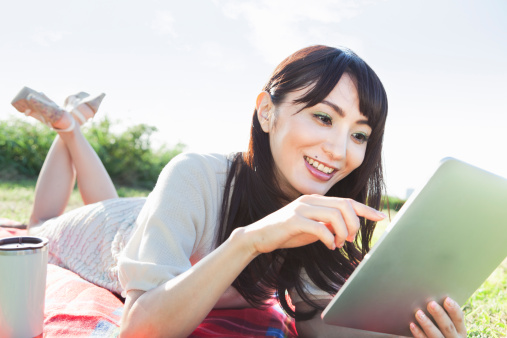deitado: (109, 24, 445, 338)
